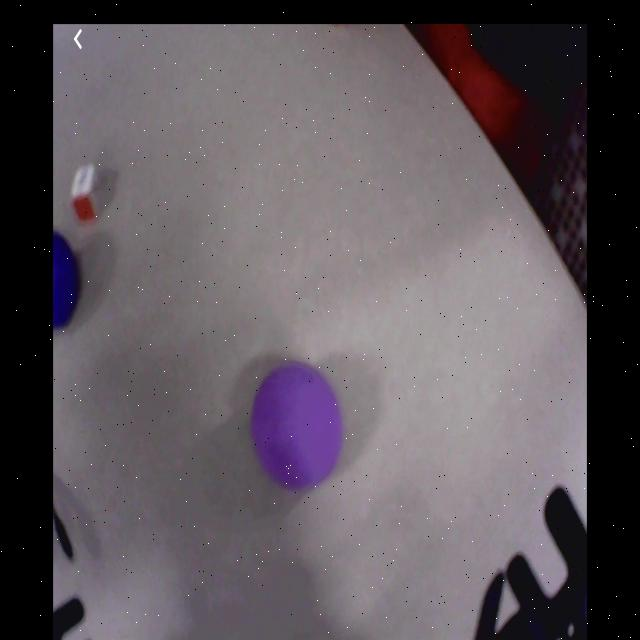ball: (254, 361, 343, 492), (54, 227, 83, 323)
